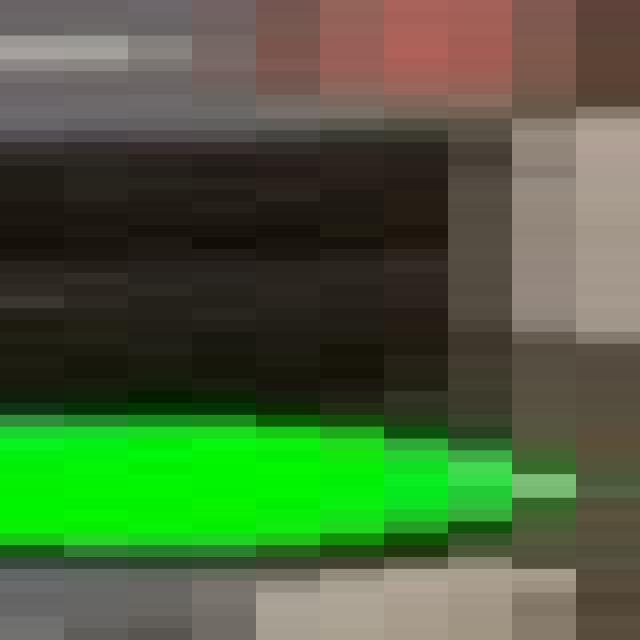green_light: (0, 103, 489, 582)
